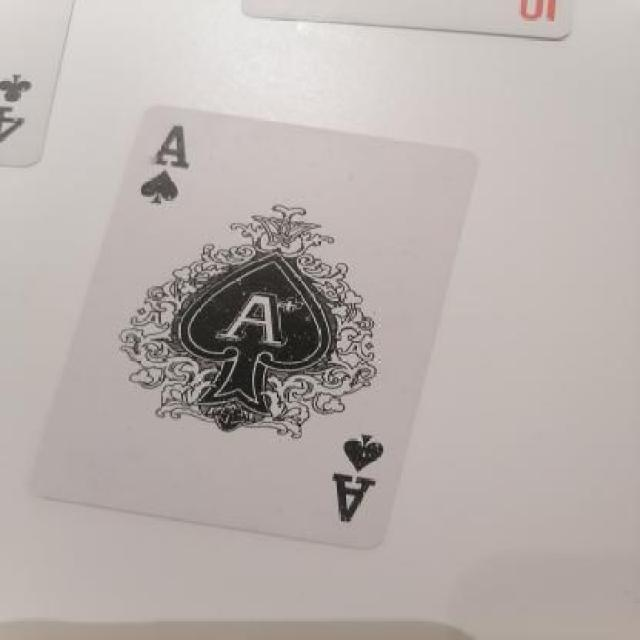AS: (307, 413, 402, 542), (113, 115, 216, 214)
